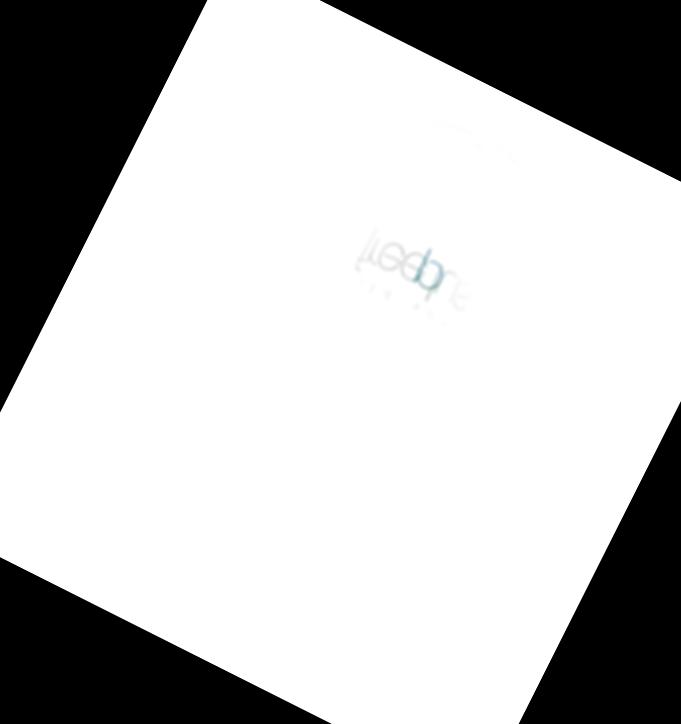cosmetic: (139, 89, 591, 688)
